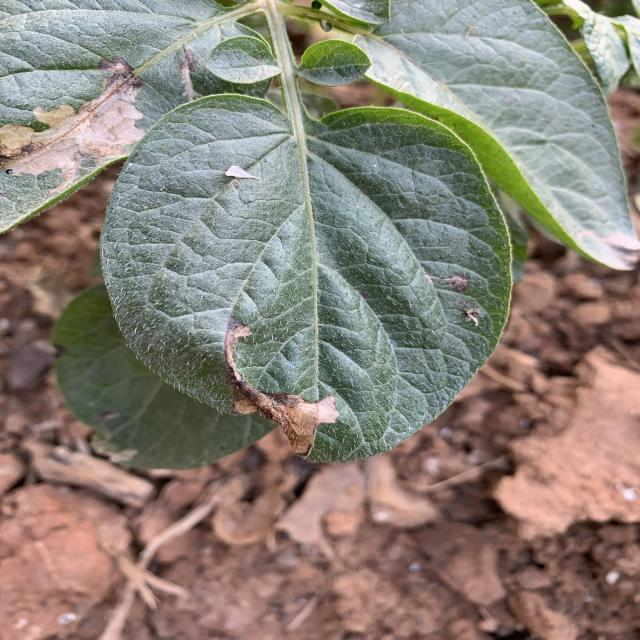lateblight: (225, 318, 340, 455)
